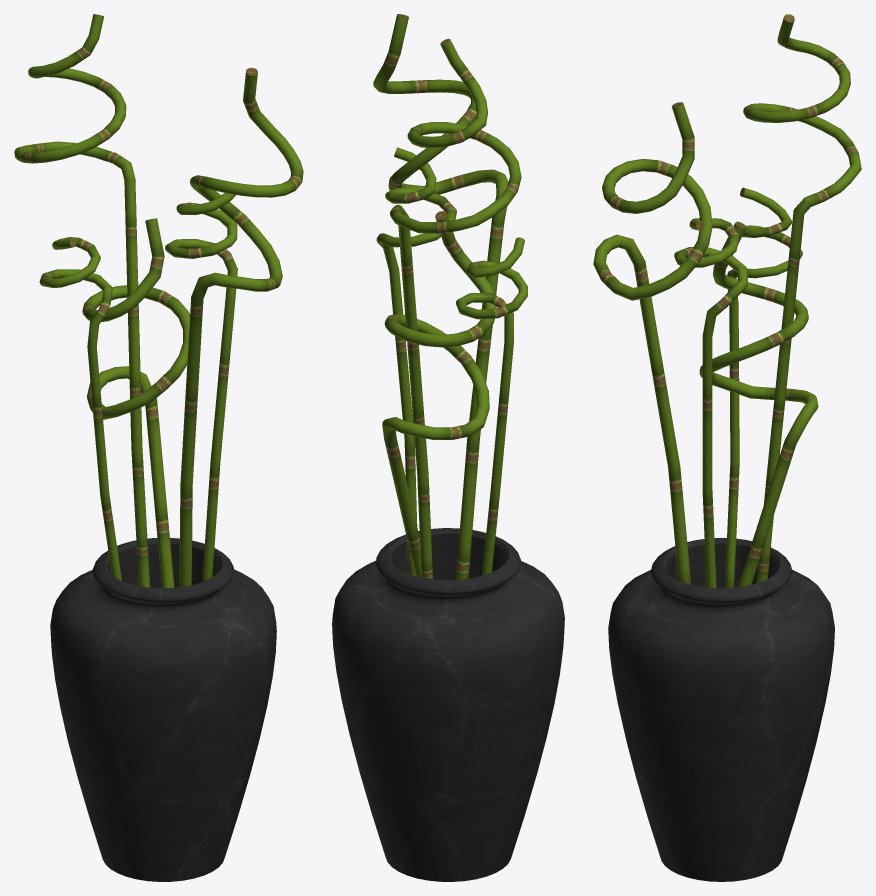
Rendered from bamboo.glb.
The picture shows the model from 3 angles, left to right: view 1: azimuth 30°, elevation 25°; view 2: azimuth 150°, elevation 25°; view 3: azimuth 270°, elevation 25°; orthographic projection. The views are drawn at different scales.
Visible parts, largest first — view 1: Line008; view 2: Line008; view 3: Line008.
Boxes of the visible parts, <box> form: Line008: <box>14,14,303,881</box>; Line008: <box>332,14,564,881</box>; Line008: <box>593,14,861,881</box>.
Bounding box in the file's own units: 34.83 × 136 × 40.18.
Materials: 2 (2 with a texture image).
